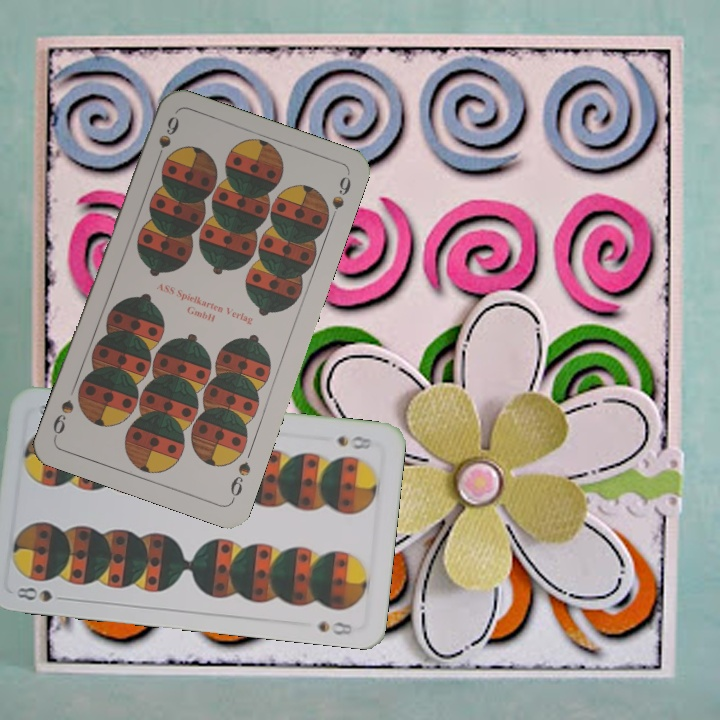S8: (12, 583, 71, 604), (332, 431, 376, 452)
S9: (150, 112, 182, 169), (226, 458, 254, 504)
